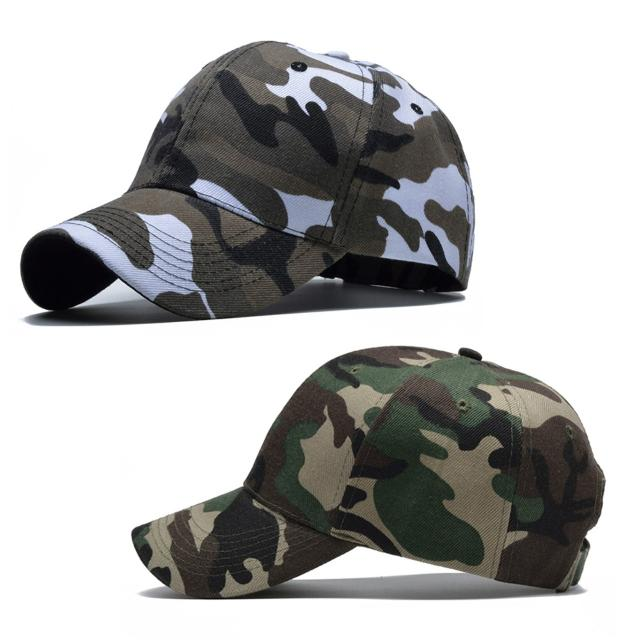Nonhelmet: (128, 337, 612, 626), (18, 30, 480, 324)
